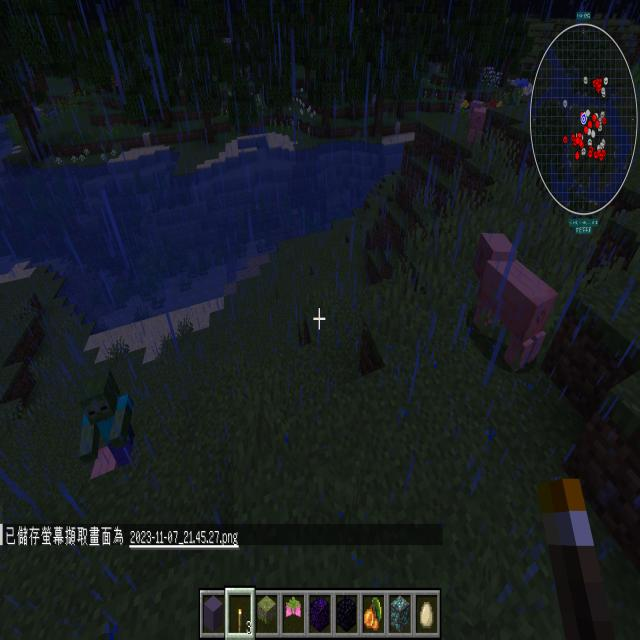Zombie: (72, 360, 140, 474)
pig: (466, 226, 564, 385), (87, 442, 120, 493), (465, 97, 491, 149)
